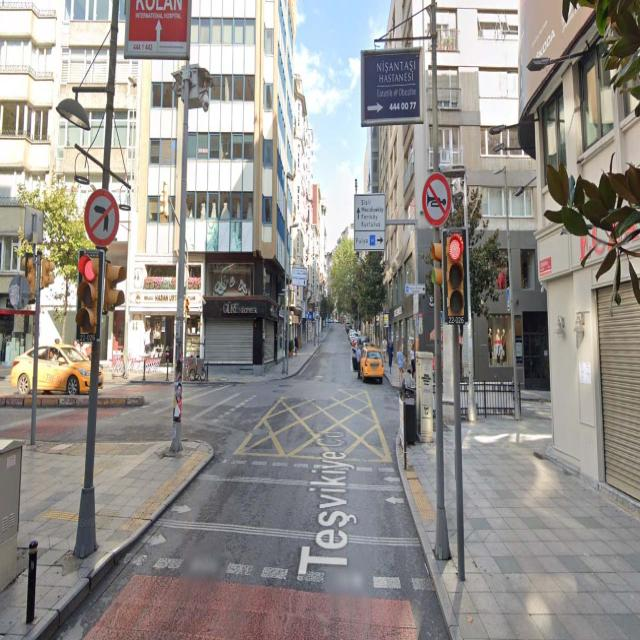kirmizi: (444, 230, 467, 325), (79, 247, 100, 339)
soladonulmez: (85, 189, 119, 245)
